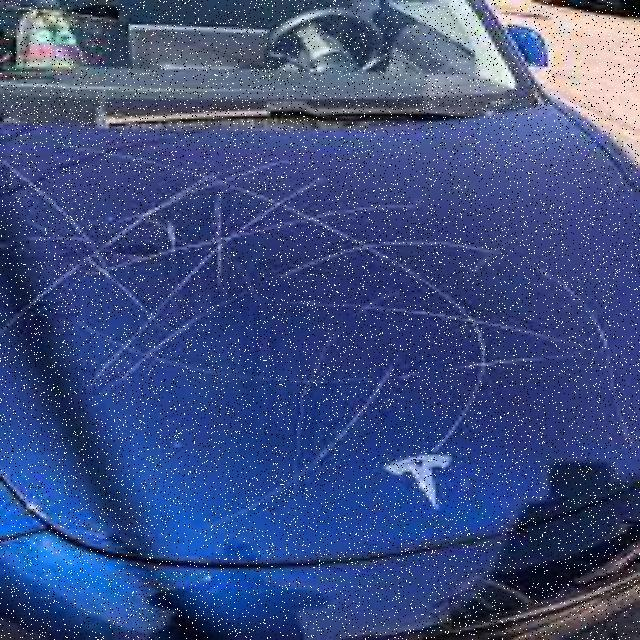bonnet-dent: (0, 123, 416, 638), (287, 118, 637, 638)
